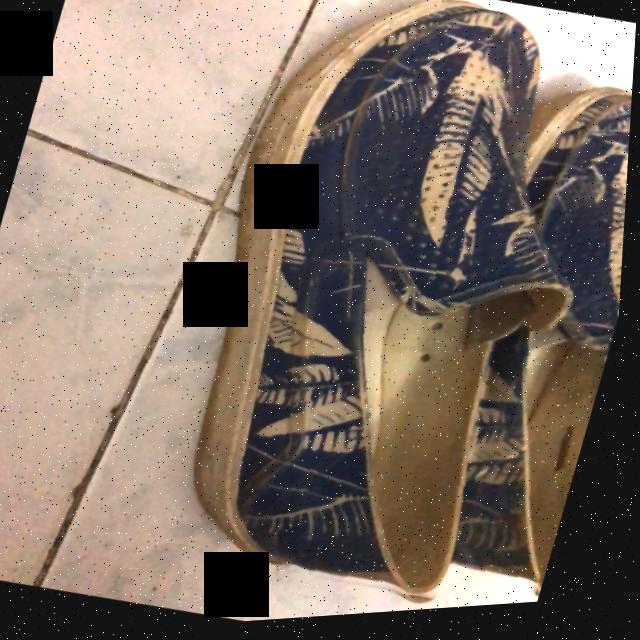shoe: (199, 7, 633, 605)
